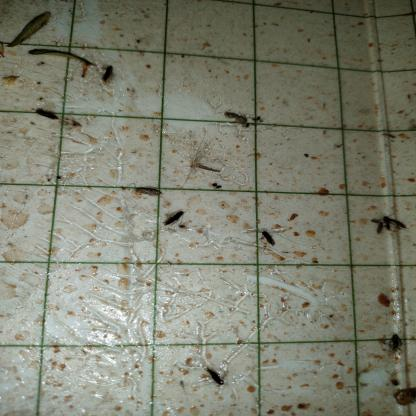prays_oleae: (372, 202, 404, 239), (129, 175, 161, 203), (250, 222, 276, 253), (158, 212, 189, 235), (228, 107, 250, 138), (386, 332, 404, 358), (102, 61, 116, 87)
